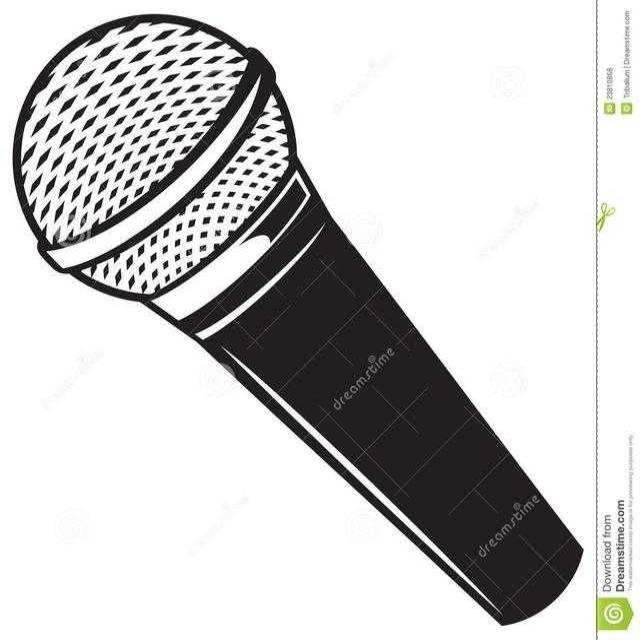microphone: (14, 18, 566, 621)
